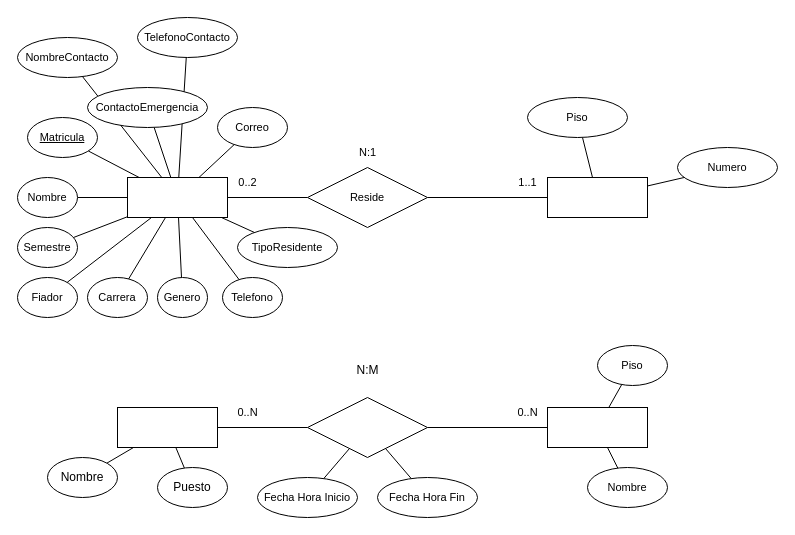
This 795x535 diagram has some shape labels left out. The centre of each missing label's shape, as x and y in pixels:
Habitacion: (x=597, y=197)
Limpia: (x=367, y=427)
Personal: (x=167, y=427)
Residente: (x=177, y=197)
Zona: (x=597, y=427)
